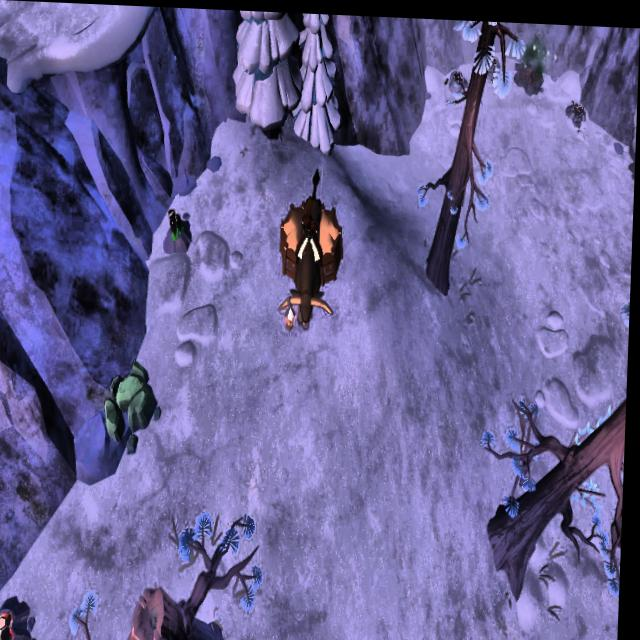ore_t3: (169, 203, 187, 245)
rock_t3: (107, 351, 167, 450)
